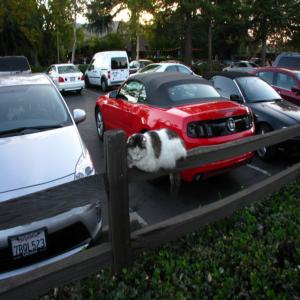Vehicle-registration-plate: (13, 238, 45, 265)
